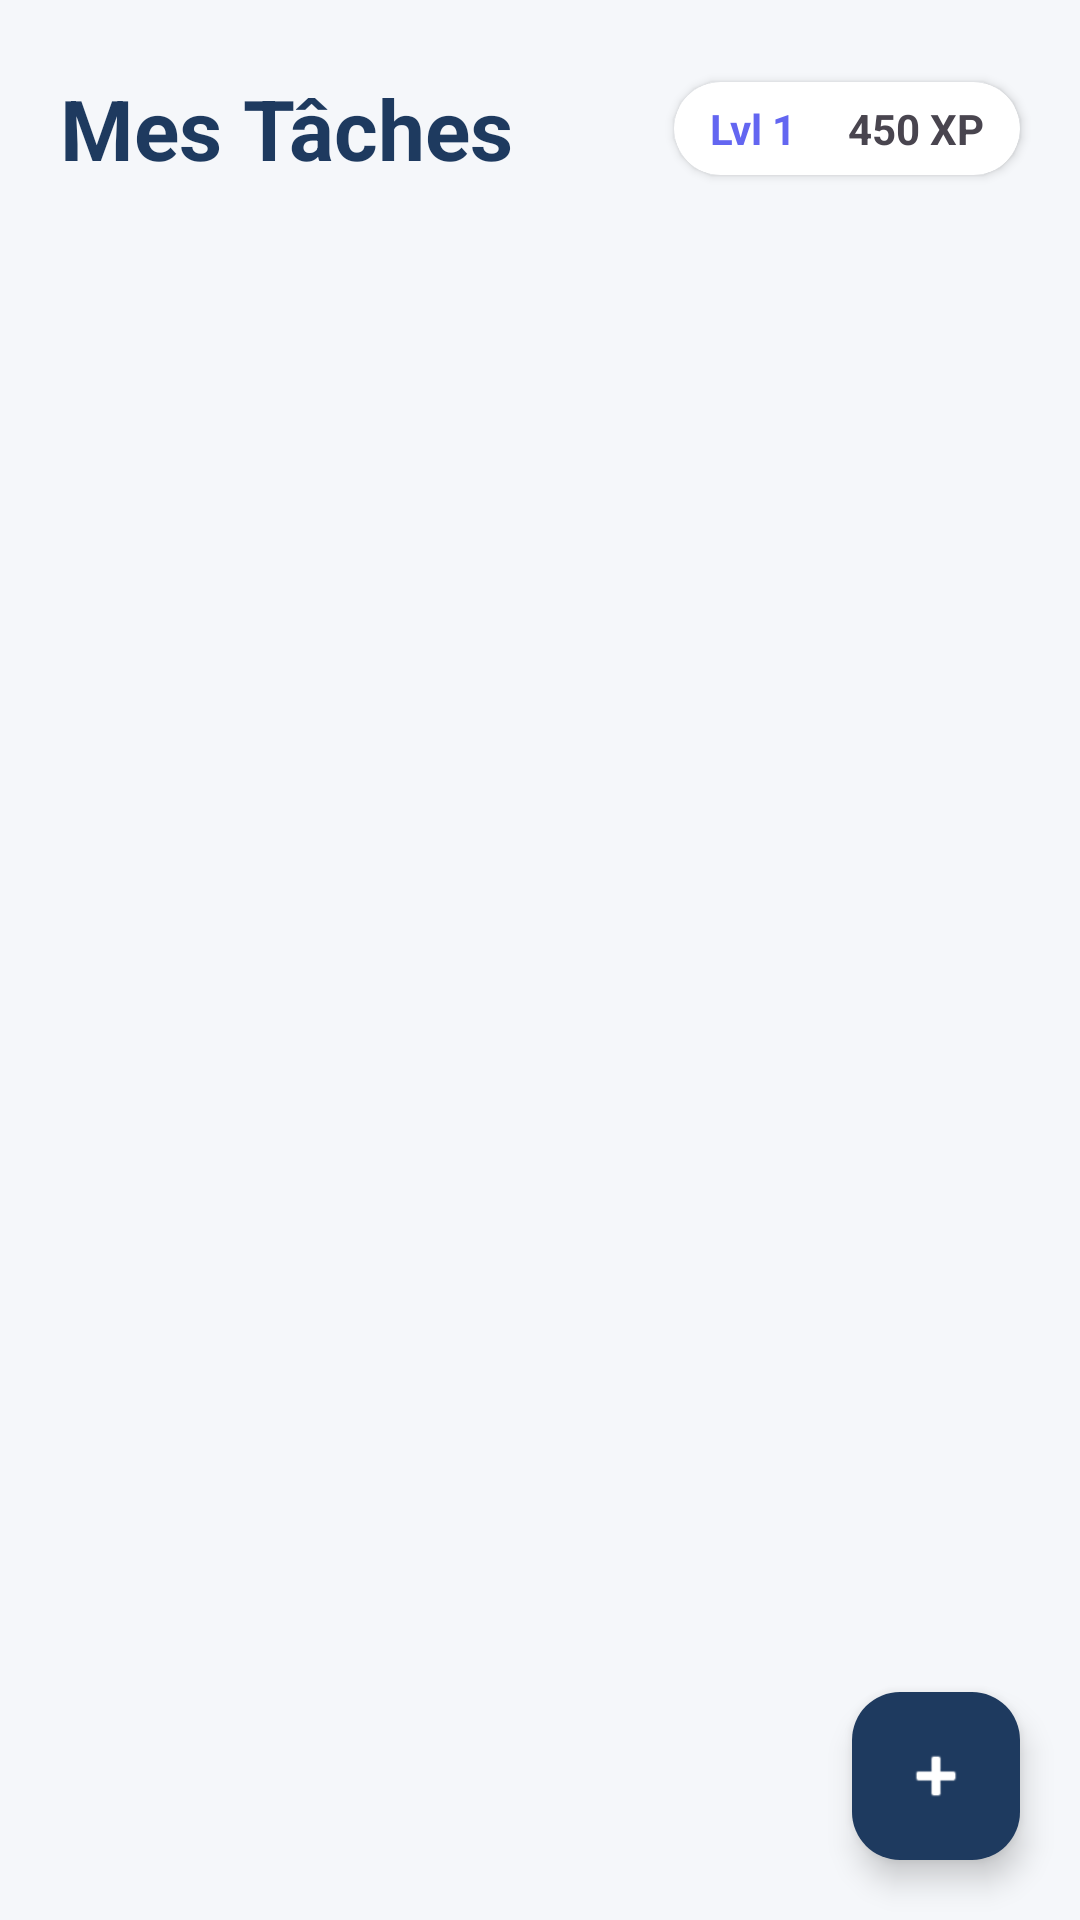

Named icons in this screenshot (1080 x 1920) and their centers, (x,y):
Ajouter une tâche: (936,1776)
